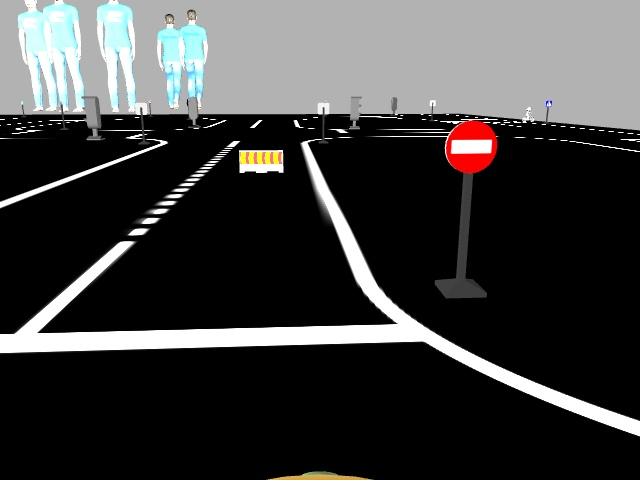ClosedRoadStand: (238, 150, 284, 172)
NoEntry: (447, 119, 491, 171)
